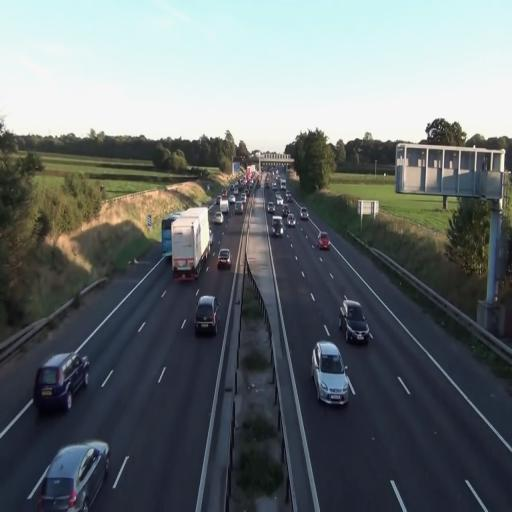vehicle: (33, 440, 110, 511), (33, 350, 90, 414), (171, 207, 210, 281), (312, 340, 352, 405), (338, 298, 372, 344), (195, 294, 219, 337), (345, 319, 372, 346), (270, 215, 284, 237), (213, 202, 227, 224), (217, 248, 231, 269), (318, 233, 330, 250)
